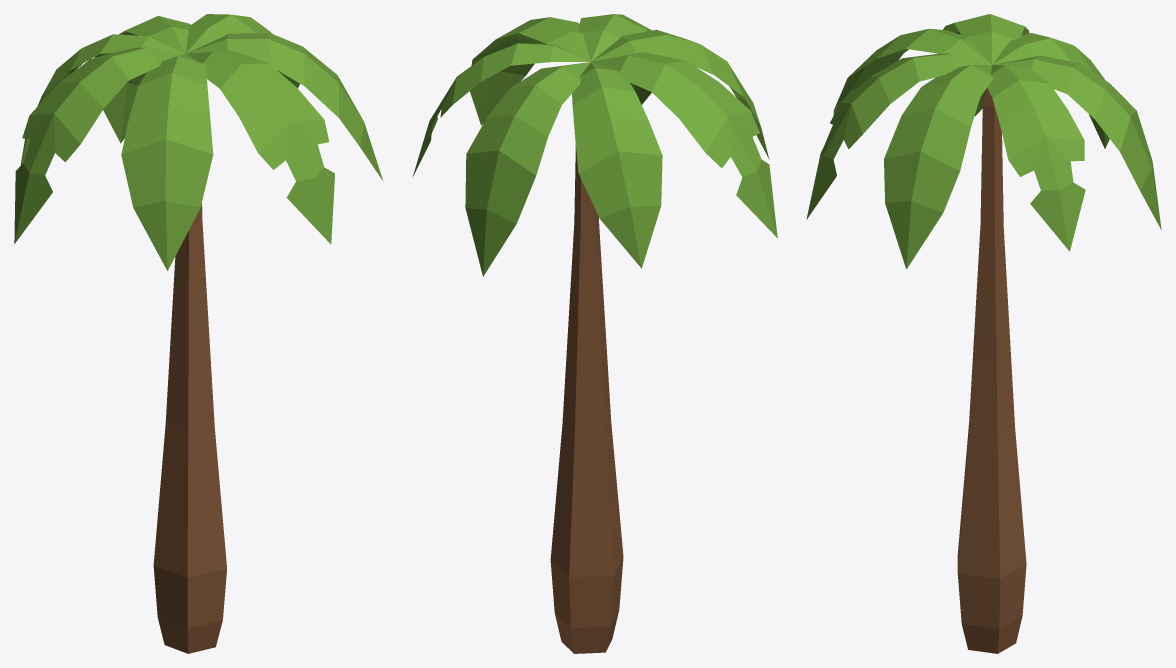
Rendered from palm.fbx.
3 views of the same model, side by side, from view 1: azimuth 30°, elevation 25°; view 2: azimuth 150°, elevation 25°; view 3: azimuth 270°, elevation 25° (orthographic). The views are drawn at different scales.
Parts seen in each view (by area): view 1: palm; view 2: palm; view 3: palm.
Part boxes in pixels (x1,y1,x2,y2): palm: (14, 14, 383, 653); palm: (412, 14, 777, 653); palm: (806, 14, 1161, 653).
Size of the model in its own units: 358 by 619 by 337.
